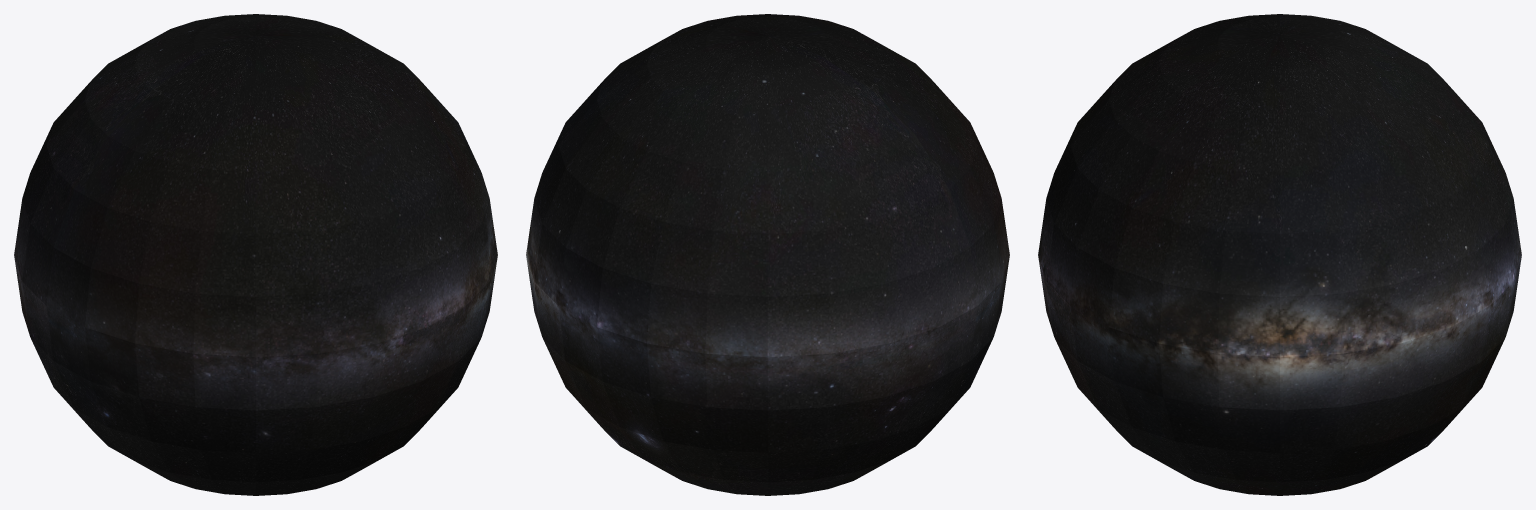
File: sky_galaxy.obj
3 views of the same model, side by side, from view 1: azimuth 30°, elevation 25°; view 2: azimuth 150°, elevation 25°; view 3: azimuth 270°, elevation 25° (orthographic).
Parts seen in each view (by area): view 1: sky_galaxy.obj; view 2: sky_galaxy.obj; view 3: sky_galaxy.obj.
Boxes of the visible parts, box(x1,y1,x2,y2) form: sky_galaxy.obj: box(14, 14, 497, 495); sky_galaxy.obj: box(526, 14, 1009, 495); sky_galaxy.obj: box(1038, 14, 1521, 495).
Bounding box in the file's own units: 1 × 1 × 1.
